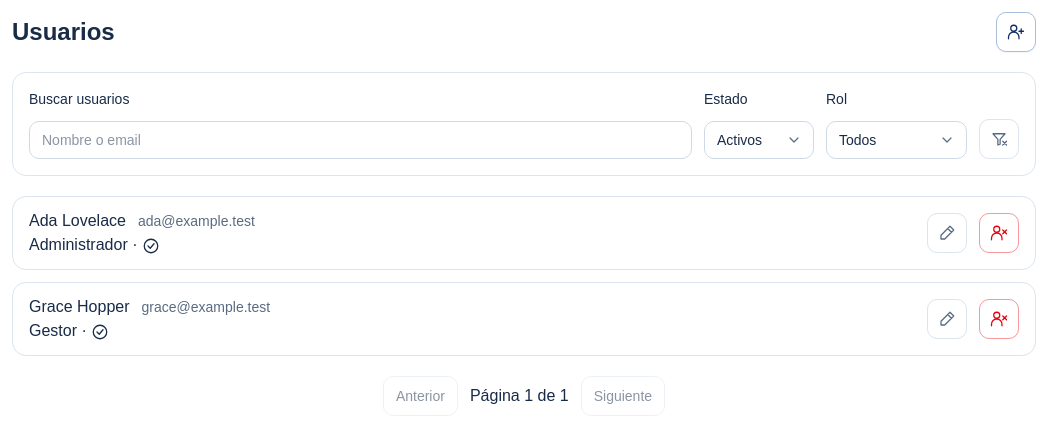
Scenario: combines partial case-insensitive name/email search, status and role, and clears filters
Expected: the text "ada@example.test" is shown, [138,211,255,231]
Step 1. Type "HOPP" into the search field labelled "Buscar usuarios" → (360, 140), box [29,121,692,159]
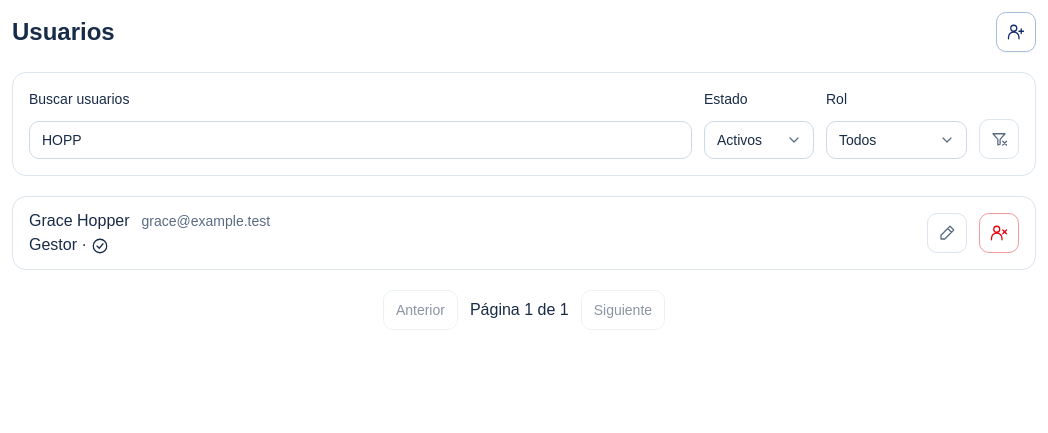
Expected: the text "grace@example.test" is shown, [142,211,270,231]
Result: the text "ada@example.test" is gone
Step 2. Select "Inactivos" in the dropdown labelled "Estado" → (759, 140), box [704,121,814,159]
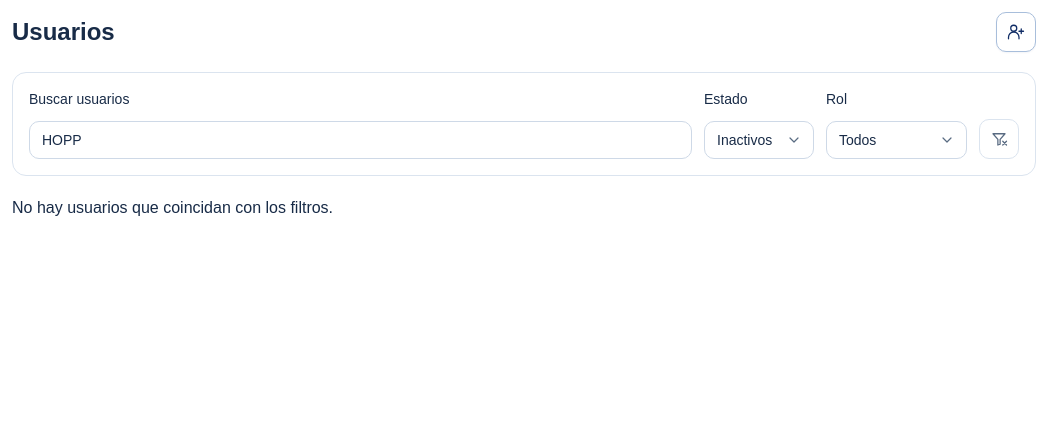
Result: the text "No hay usuarios que coincidan con los filtros." is shown at [12,199,333,216]
Step 3. Click the button named "Limpiar filtros" → click(999, 139), box [979,119,1019,159]
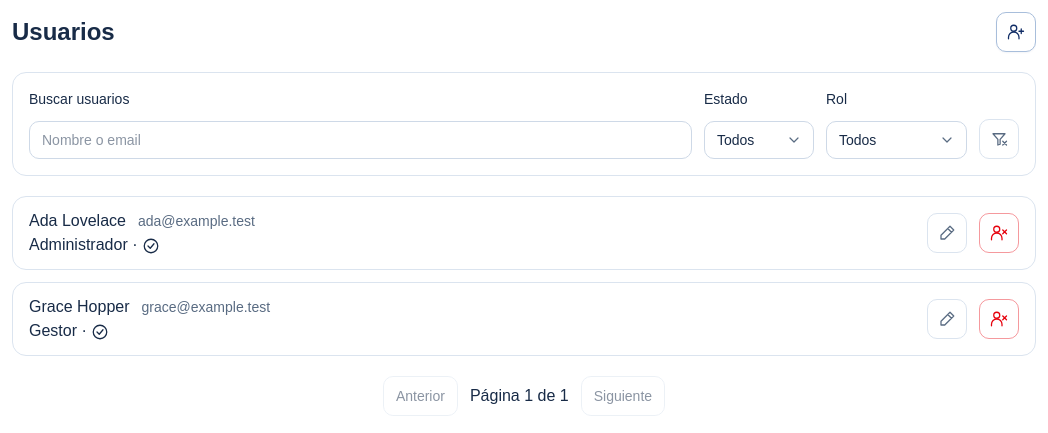
Step 4. Type "ADA@EXAMPLE" into the search field → (360, 140), box [29,121,692,159]
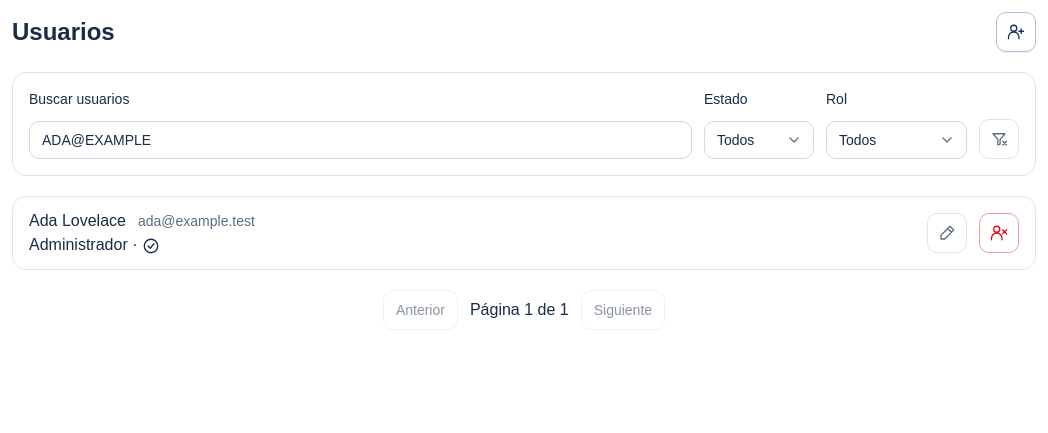
Step 5. Select "Gestor" in the dropdown labelled "Rol" → (896, 140), box [826,121,967,159]
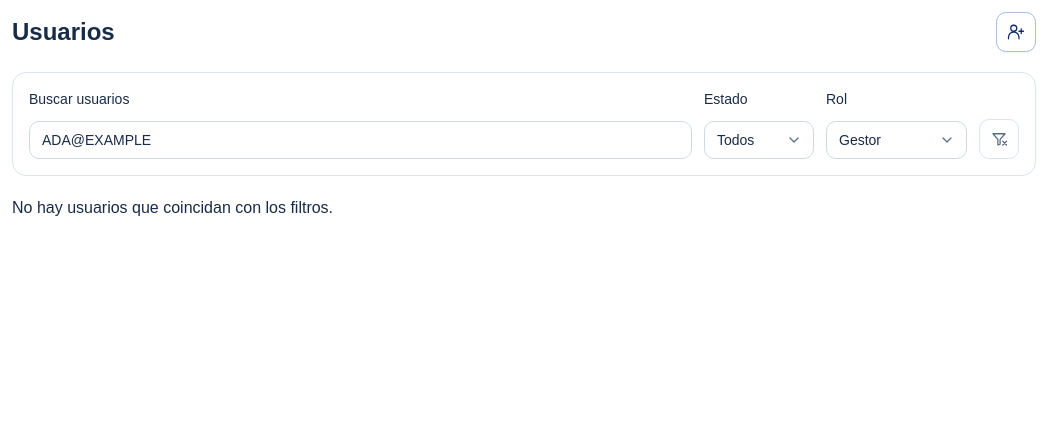
Result: the text "ada@example.test" is gone
Step 6. Click the button named "Limpiar filtros" → click(999, 139), box [979,119,1019,159]
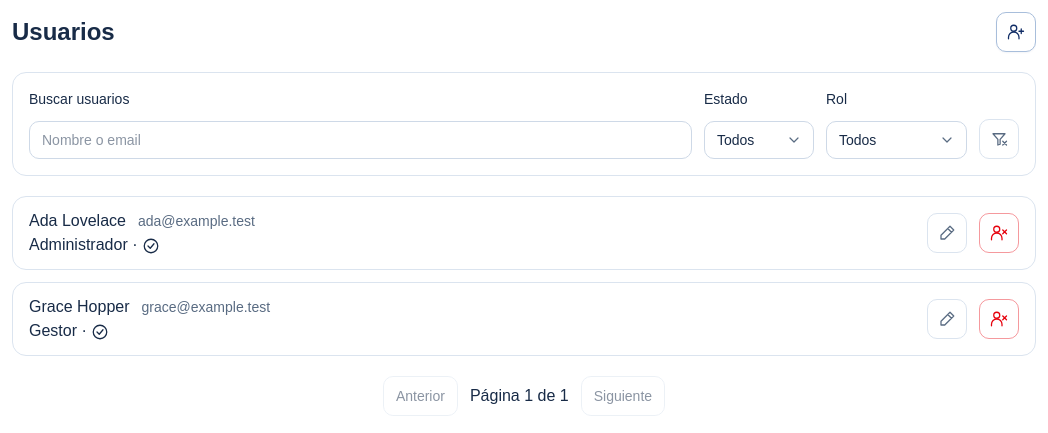
Result: the text "ada@example.test" is shown at [138,211,255,231]
Result: the text "grace@example.test" is shown at [142,297,270,317]
